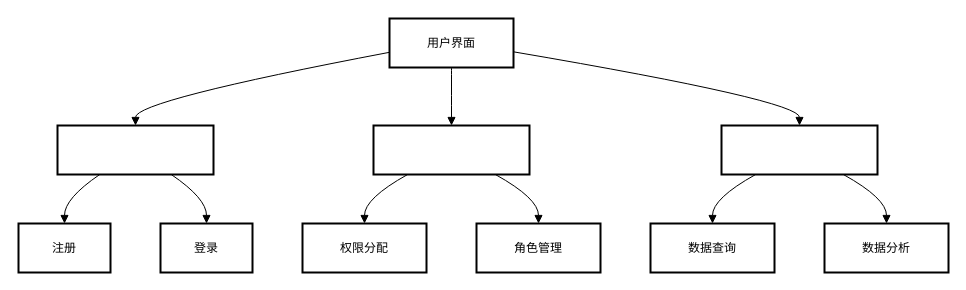
Image size: 966x290. Some labels were removed from this diagram. Here are the shapes that lost their labels. From the top down, the centre of each, then its label:
At point 135,149: "用户管理模块".
At point 451,149: "权限管理模块".
At point 799,149: "数据展示模块".
